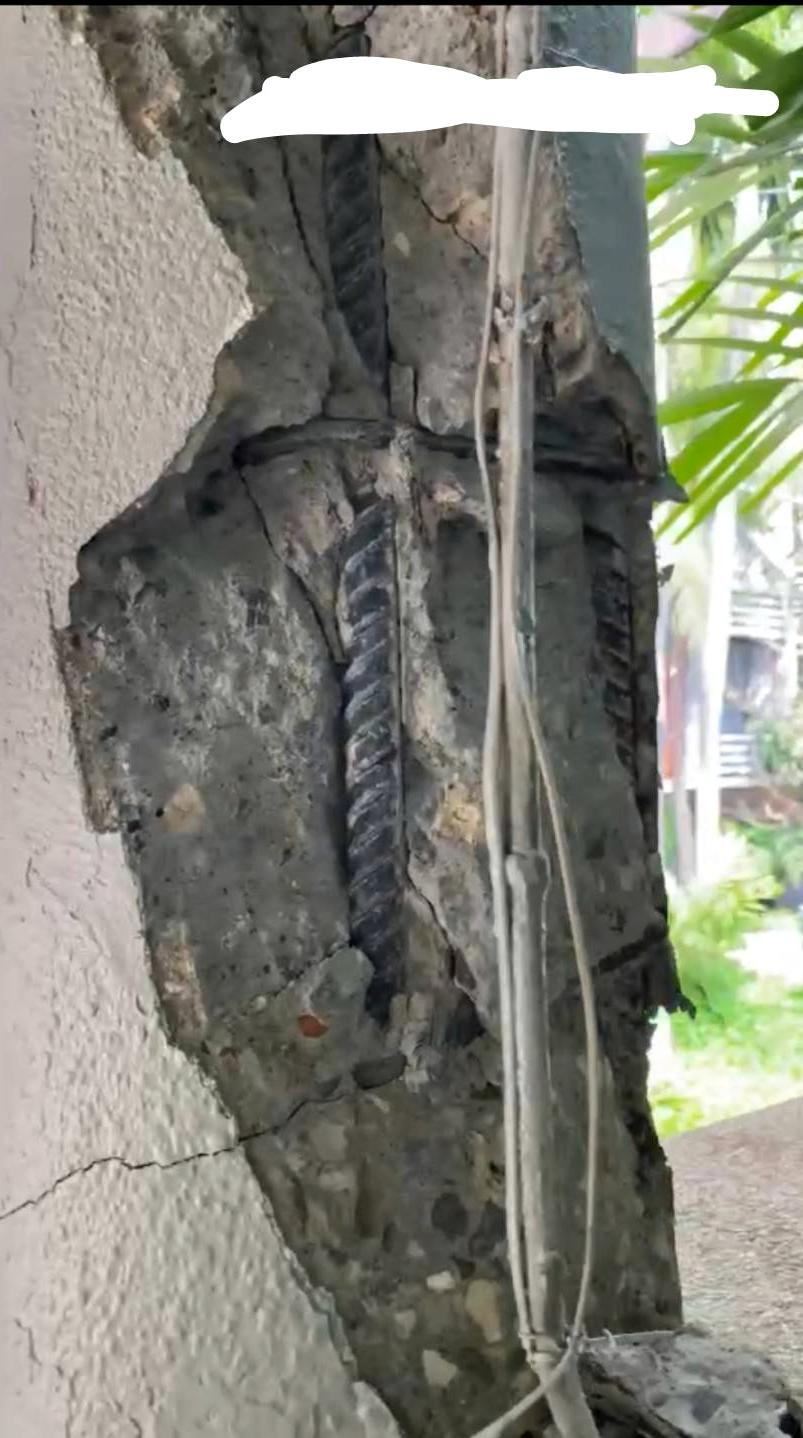High: (33, 140, 691, 1434)
